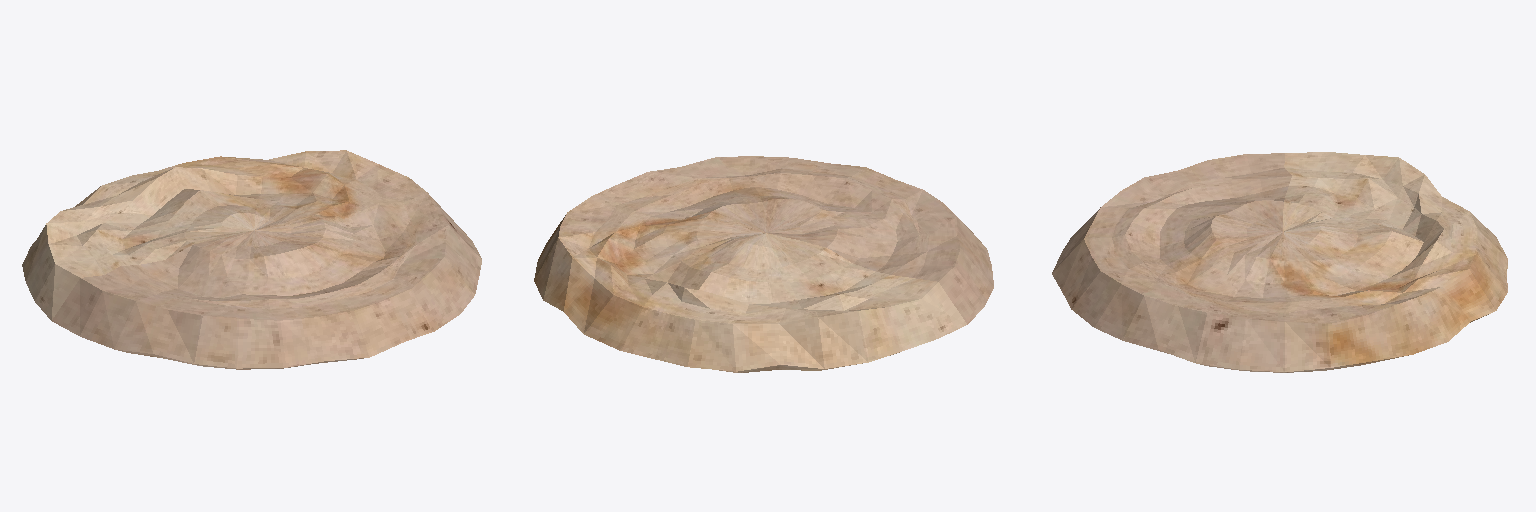
3 views of the same model, side by side, from view 1: azimuth 30°, elevation 25°; view 2: azimuth 150°, elevation 25°; view 3: azimuth 270°, elevation 25° (orthographic).
Parts seen in each view (by area): view 1: Sphere; view 2: Sphere; view 3: Sphere.
Boxes of the visible parts, x1,y1,x2,y2 form: Sphere: [22, 150, 481, 369]; Sphere: [534, 156, 993, 372]; Sphere: [1052, 152, 1507, 372].
Bounding box in the file's own units: 2.65 × 0.3776 × 2.6.
Materials: 1 (1 with a texture image).